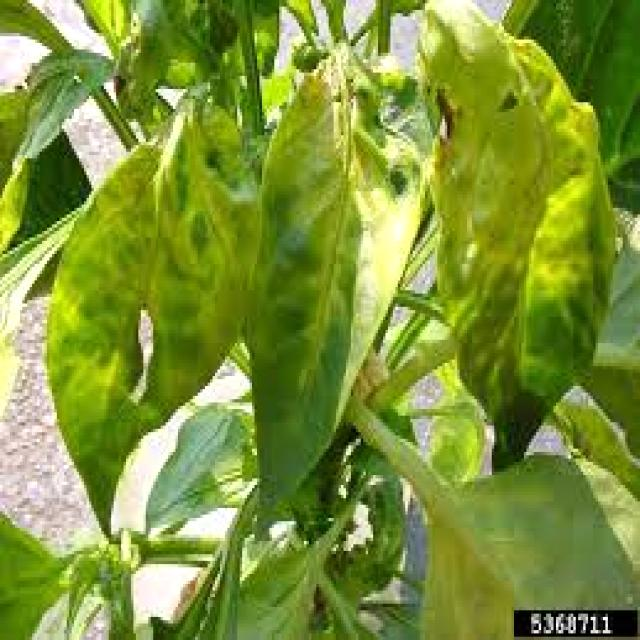yellowish leaf: (40, 73, 250, 498), (411, 4, 594, 459), (266, 60, 431, 466), (420, 490, 577, 640)
